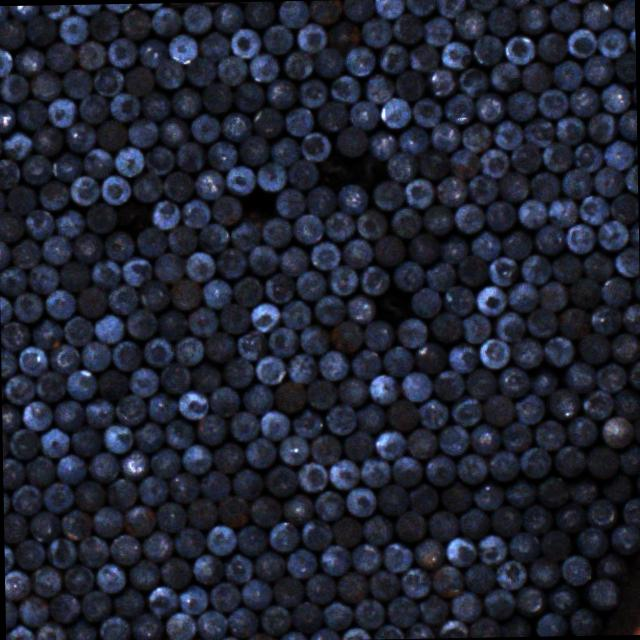tool: (433, 216, 479, 268), (45, 196, 94, 244), (348, 393, 394, 442), (259, 122, 309, 166), (272, 232, 316, 280), (44, 140, 88, 184), (0, 117, 41, 162), (544, 581, 582, 615), (158, 554, 193, 590), (326, 16, 361, 52), (525, 361, 560, 396), (600, 414, 634, 450), (343, 290, 378, 324), (16, 591, 49, 627), (593, 551, 630, 583), (111, 584, 145, 618), (430, 564, 464, 598), (535, 472, 569, 506), (562, 358, 596, 392), (8, 235, 42, 269), (528, 168, 562, 202), (449, 394, 484, 427), (584, 578, 620, 610), (29, 564, 63, 597), (59, 506, 92, 540), (104, 476, 138, 509), (448, 589, 482, 622), (482, 586, 516, 619), (528, 555, 561, 589), (204, 522, 237, 556), (554, 498, 587, 532), (248, 494, 282, 527), (471, 476, 504, 510), (198, 469, 232, 502), (372, 427, 406, 460), (20, 398, 53, 432), (285, 352, 318, 386), (348, 347, 382, 380), (109, 338, 142, 372), (234, 327, 268, 360), (123, 306, 157, 339), (358, 261, 392, 294), (512, 392, 546, 425), (546, 386, 580, 419), (494, 364, 528, 397), (542, 333, 575, 367), (576, 331, 610, 364), (372, 233, 406, 266), (458, 118, 491, 152), (502, 32, 536, 65), (514, 582, 546, 617), (492, 306, 524, 341), (109, 533, 142, 566), (221, 551, 254, 584), (381, 540, 414, 573), (235, 522, 268, 555), (607, 522, 640, 555), (8, 426, 41, 459), (212, 441, 245, 474), (245, 436, 278, 469), (259, 409, 292, 442), (432, 368, 465, 401), (95, 368, 128, 401), (188, 359, 221, 392), (429, 309, 462, 342), (532, 417, 565, 450), (435, 174, 468, 207), (192, 167, 225, 200), (157, 114, 190, 147), (80, 588, 112, 622), (29, 508, 61, 542), (8, 483, 42, 515), (352, 596, 386, 628), (284, 546, 318, 578), (142, 529, 174, 563), (124, 502, 156, 536), (343, 486, 377, 518), (438, 479, 472, 511), (504, 472, 536, 506), (575, 526, 609, 558), (584, 444, 618, 476), (340, 428, 372, 462), (436, 422, 468, 456), (291, 406, 325, 438), (114, 394, 148, 426), (240, 382, 274, 414), (156, 360, 190, 392), (220, 356, 254, 388), (414, 340, 446, 374), (248, 300, 282, 332), (262, 272, 296, 304), (482, 391, 514, 425), (474, 283, 508, 315), (568, 276, 602, 308), (497, 168, 529, 202), (540, 140, 574, 172), (251, 105, 283, 139), (568, 84, 600, 118), (294, 20, 328, 52), (424, 509, 459, 540), (324, 401, 355, 436), (45, 342, 80, 373), (63, 562, 96, 594), (76, 534, 108, 567), (321, 598, 354, 630), (177, 582, 210, 614), (270, 574, 303, 606), (336, 570, 369, 602), (367, 568, 400, 600), (494, 558, 527, 590), (127, 558, 160, 590), (521, 501, 554, 533), (216, 495, 249, 527), (282, 491, 314, 524), (167, 472, 200, 504), (230, 468, 262, 501), (424, 453, 456, 486), (488, 448, 520, 481), (519, 446, 552, 478), (4, 372, 36, 405), (132, 419, 164, 452), (386, 398, 419, 430), (274, 380, 306, 413), (367, 372, 400, 404), (255, 352, 287, 385), (140, 336, 173, 368), (395, 316, 428, 348), (30, 317, 63, 349), (92, 310, 124, 343), (510, 336, 542, 369), (557, 306, 590, 338), (456, 254, 488, 287), (78, 92, 110, 125), (534, 222, 566, 255), (453, 200, 485, 233), (484, 199, 517, 231), (335, 181, 367, 214), (448, 146, 481, 178), (200, 80, 232, 113), (28, 69, 61, 101), (288, 601, 322, 632), (294, 461, 328, 492), (181, 442, 212, 476), (329, 320, 363, 351), (61, 313, 92, 347), (156, 306, 187, 340), (168, 278, 202, 309), (142, 143, 176, 174), (56, 13, 90, 44), (45, 536, 77, 568), (92, 504, 124, 536), (42, 480, 74, 512), (72, 478, 104, 510), (194, 608, 226, 640), (386, 596, 418, 628), (146, 584, 178, 616), (192, 552, 224, 584), (444, 536, 476, 568), (508, 530, 540, 562), (300, 518, 332, 550), (264, 464, 296, 496), (456, 452, 488, 484), (560, 554, 592, 586), (552, 445, 584, 477), (12, 290, 44, 322), (56, 454, 88, 486), (308, 432, 340, 464), (196, 414, 228, 446), (417, 396, 449, 428), (306, 377, 338, 409), (401, 370, 433, 402), (64, 367, 96, 399), (268, 325, 300, 357), (186, 304, 218, 336), (217, 302, 249, 334), (230, 274, 262, 306), (424, 260, 456, 292), (500, 420, 532, 452), (566, 416, 598, 448), (464, 366, 496, 398), (518, 252, 550, 284), (68, 174, 100, 206), (46, 96, 78, 128), (184, 250, 216, 282), (566, 221, 598, 253), (354, 207, 386, 239), (546, 196, 578, 228), (490, 116, 522, 148), (442, 91, 474, 123), (505, 88, 537, 120), (362, 72, 394, 104), (592, 165, 624, 197), (602, 138, 634, 170), (582, 52, 614, 84), (136, 35, 168, 67), (440, 38, 472, 70), (392, 12, 424, 44), (516, 2, 548, 34), (14, 536, 45, 569), (458, 507, 491, 538), (390, 455, 423, 486), (317, 348, 348, 381), (312, 294, 345, 325), (468, 422, 499, 455), (478, 336, 509, 369), (72, 231, 105, 262), (407, 231, 438, 264), (166, 222, 197, 255), (259, 216, 292, 247), (404, 175, 435, 208), (479, 145, 510, 178), (522, 116, 555, 147), (519, 60, 552, 91), (92, 64, 125, 95), (343, 45, 376, 76), (150, 5, 181, 38), (211, 1, 244, 32), (49, 590, 79, 624), (162, 610, 196, 640), (317, 544, 351, 574), (569, 606, 603, 636), (43, 288, 77, 318), (334, 125, 368, 155), (598, 218, 628, 252), (611, 384, 640, 419), (399, 566, 430, 598), (413, 536, 444, 568), (174, 526, 205, 558), (491, 504, 522, 536), (88, 451, 120, 482), (148, 446, 180, 477), (277, 434, 309, 465), (70, 425, 102, 456), (228, 410, 260, 441), (208, 384, 239, 416), (34, 370, 66, 401), (203, 330, 235, 361), (298, 322, 329, 354), (363, 318, 394, 350), (392, 259, 424, 290), (446, 342, 478, 373), (549, 252, 581, 283), (120, 254, 152, 285), (40, 233, 72, 264), (6, 181, 37, 213), (152, 251, 183, 283), (228, 220, 260, 251), (390, 206, 421, 238), (422, 203, 453, 235), (386, 150, 418, 181), (219, 110, 250, 142), (138, 90, 170, 121), (168, 85, 200, 116), (394, 69, 426, 100), (61, 66, 92, 98), (44, 40, 76, 71), (26, 14, 57, 46), (88, 8, 119, 40), (118, 8, 150, 39), (312, 46, 343, 78), (484, 5, 516, 36), (94, 562, 127, 592), (256, 604, 289, 634), (408, 480, 438, 513), (358, 456, 391, 486), (25, 455, 55, 488), (281, 297, 311, 330), (410, 286, 443, 316), (202, 276, 232, 309), (582, 247, 612, 280), (37, 179, 70, 209), (95, 118, 128, 148), (248, 243, 278, 276), (134, 226, 167, 256), (196, 222, 229, 252), (274, 185, 304, 218), (560, 167, 593, 197), (316, 100, 349, 130), (347, 99, 380, 129), (122, 64, 155, 94), (11, 44, 44, 74), (246, 52, 279, 82), (376, 42, 409, 72), (168, 31, 198, 64), (417, 592, 448, 623), (304, 571, 335, 602), (406, 427, 437, 458), (101, 423, 132, 454), (31, 123, 62, 154), (305, 185, 336, 216), (233, 80, 264, 111), (577, 194, 608, 225), (153, 57, 184, 88), (282, 49, 313, 80), (548, 0, 579, 31), (225, 606, 257, 636), (208, 580, 240, 610), (240, 578, 272, 608), (464, 562, 494, 594), (252, 550, 284, 580), (476, 532, 506, 564), (540, 528, 572, 558), (268, 521, 300, 551), (330, 515, 362, 545), (362, 514, 394, 544), (394, 510, 426, 540), (185, 498, 217, 528), (376, 484, 408, 514), (52, 400, 84, 430), (84, 396, 114, 428), (147, 390, 177, 422), (338, 374, 368, 406), (106, 284, 138, 314), (295, 268, 325, 300), (326, 264, 358, 294), (596, 360, 626, 392), (610, 330, 640, 362), (526, 306, 558, 336), (507, 280, 537, 312), (537, 278, 567, 310), (488, 255, 518, 287), (27, 262, 59, 292), (59, 260, 91, 290), (84, 202, 116, 232), (83, 146, 113, 178), (64, 120, 96, 150), (216, 247, 246, 279), (500, 226, 530, 258), (292, 212, 322, 244), (516, 197, 546, 229), (148, 198, 178, 230), (210, 194, 242, 224), (371, 179, 403, 209), (132, 170, 162, 202), (510, 142, 540, 174), (204, 140, 236, 170), (368, 128, 398, 160), (380, 95, 410, 127), (412, 96, 442, 128), (474, 90, 504, 122), (264, 76, 296, 106), (296, 77, 328, 107), (552, 58, 582, 90), (608, 191, 638, 223), (104, 36, 136, 66), (184, 56, 216, 86), (566, 26, 596, 58), (230, 27, 262, 57), (422, 14, 452, 46), (596, 26, 628, 56), (381, 345, 414, 374), (350, 542, 381, 572), (567, 472, 598, 502), (16, 344, 46, 375), (0, 319, 31, 349), (164, 418, 195, 448), (177, 389, 208, 419), (80, 340, 110, 371), (75, 286, 106, 316), (581, 388, 612, 418), (589, 304, 620, 334), (104, 229, 134, 260), (100, 173, 130, 204), (21, 154, 52, 184), (109, 91, 139, 122), (341, 236, 372, 266), (180, 196, 210, 227), (467, 174, 498, 204), (287, 159, 318, 189), (418, 148, 449, 178), (176, 140, 206, 171), (190, 112, 220, 143), (537, 86, 567, 117), (490, 60, 520, 91), (572, 141, 602, 172), (75, 38, 105, 69), (216, 54, 247, 84), (536, 31, 566, 62), (361, 16, 392, 46), (454, 7, 484, 38), (181, 3, 212, 33), (130, 611, 162, 640), (586, 498, 618, 527), (600, 473, 632, 502), (174, 335, 203, 367), (462, 311, 491, 343), (156, 500, 186, 530), (328, 458, 358, 488), (128, 366, 158, 396), (443, 284, 473, 314), (24, 208, 54, 238), (114, 146, 144, 176), (17, 98, 47, 128), (310, 240, 340, 270), (470, 229, 500, 259), (324, 210, 354, 240), (162, 170, 192, 200), (256, 160, 286, 190), (238, 134, 268, 164), (300, 130, 330, 160), (398, 124, 428, 154), (554, 114, 584, 144), (586, 111, 616, 141), (600, 82, 630, 112), (472, 34, 502, 64), (262, 22, 292, 52), (312, 490, 343, 519), (41, 427, 70, 458), (90, 258, 119, 289), (224, 165, 255, 194), (127, 117, 158, 146), (427, 66, 458, 95), (0, 263, 28, 295), (139, 280, 168, 310), (430, 121, 459, 151), (284, 105, 313, 135), (458, 65, 488, 94), (198, 30, 228, 59), (580, 0, 610, 29), (329, 74, 360, 102), (3, 512, 30, 544), (98, 614, 131, 640), (535, 610, 568, 636), (120, 449, 149, 478), (138, 474, 166, 504), (601, 276, 631, 304), (612, 245, 640, 275), (0, 72, 28, 102), (244, 0, 274, 28), (278, 0, 309, 27), (4, 568, 30, 600), (410, 42, 438, 70), (66, 615, 97, 640), (500, 612, 531, 637), (468, 614, 499, 638), (0, 210, 24, 241), (612, 51, 636, 81), (33, 619, 67, 640), (0, 18, 24, 47), (2, 458, 25, 488), (309, 0, 339, 23), (341, 0, 372, 22), (610, 0, 635, 27), (617, 444, 640, 473), (615, 108, 637, 138), (437, 617, 468, 638), (1, 400, 21, 432), (620, 301, 640, 333), (0, 158, 21, 187), (404, 621, 436, 639), (621, 495, 640, 525), (373, 622, 404, 640), (374, 0, 404, 18), (5, 622, 33, 640), (622, 163, 638, 194), (7, 4, 38, 20), (434, 0, 465, 16), (0, 101, 16, 131), (0, 348, 16, 377), (40, 4, 70, 19), (404, 0, 433, 15), (308, 626, 339, 640), (5, 597, 18, 629), (0, 44, 11, 76), (467, 0, 498, 10)
tool_b: (302, 138, 397, 198), (363, 274, 422, 328), (106, 186, 161, 238)
void: (231, 177, 285, 230)
